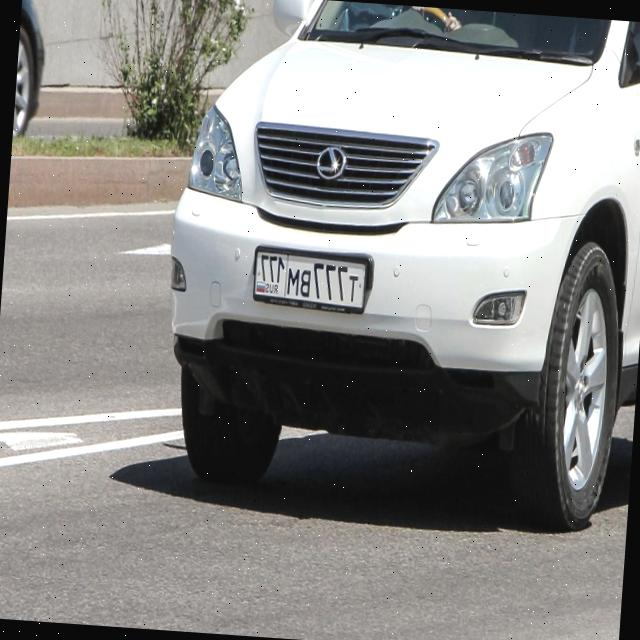number-plates: (250, 250, 368, 314)
